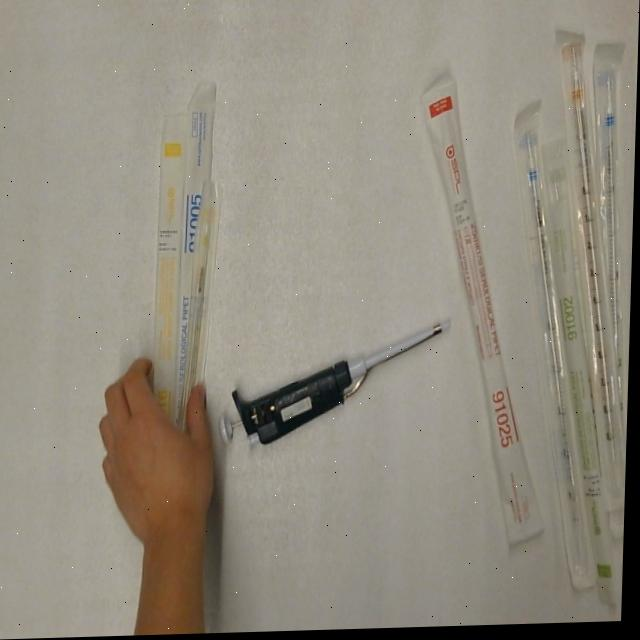Serelogical Pipet 1 mL: (151, 107, 188, 430), (179, 181, 226, 435)
Serelogical Pipet 10 mL: (547, 35, 639, 516)
Serelogical Pipet 2 mL: (538, 197, 634, 614)
Serelogical Pipet 25 mL: (411, 79, 561, 553)
Serelogical Pipet 5 mL: (501, 101, 613, 598), (586, 43, 635, 412), (175, 77, 221, 430)
Single Channel Pipettor: (218, 318, 455, 452)
